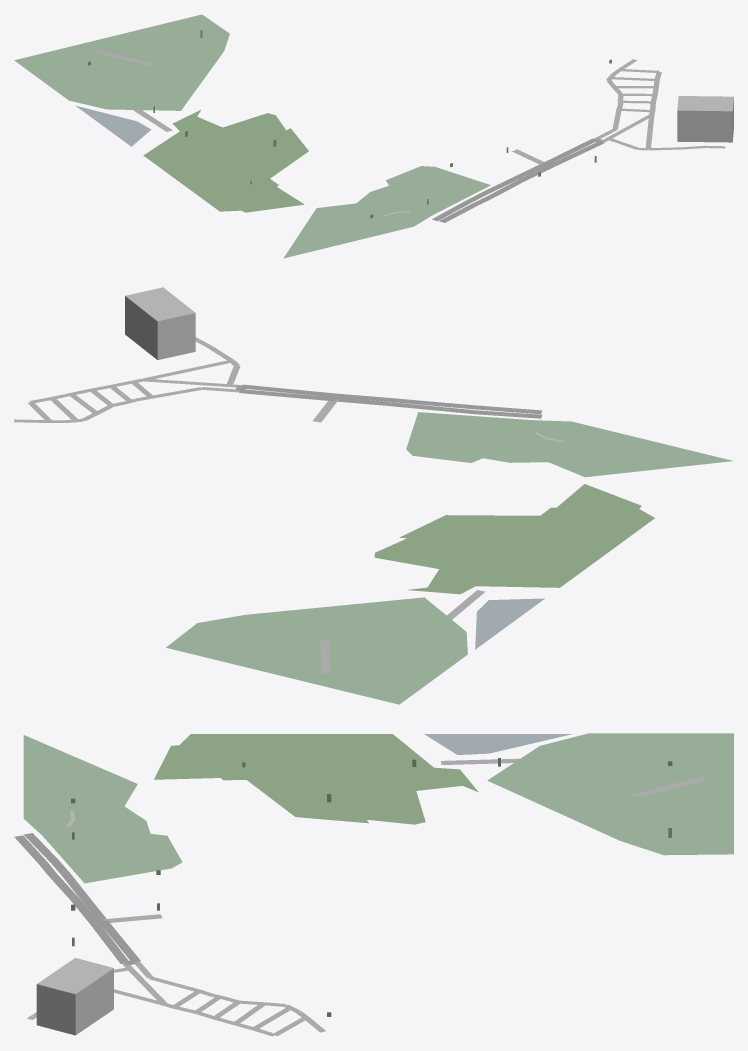
3 views of the same model, one above another, from view 1: azimuth 30°, elevation 25°; view 2: azimuth 150°, elevation 25°; view 3: azimuth 270°, elevation 25° (orthographic). The views are drawn at different scales.
Size of the model in its own units: 507 by 34.2 by 507.
